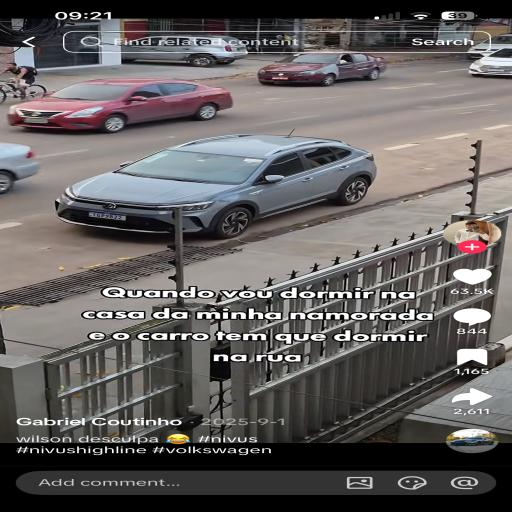detec-o-placas: (83, 205, 145, 230)
